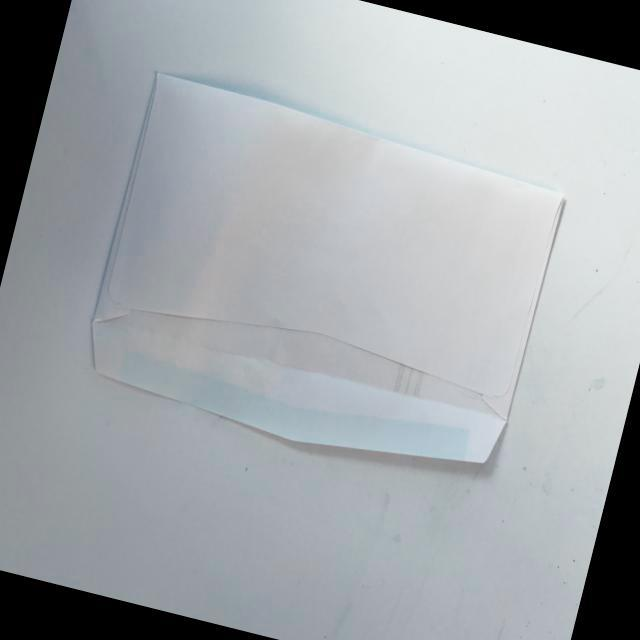paper: (66, 42, 605, 524)
